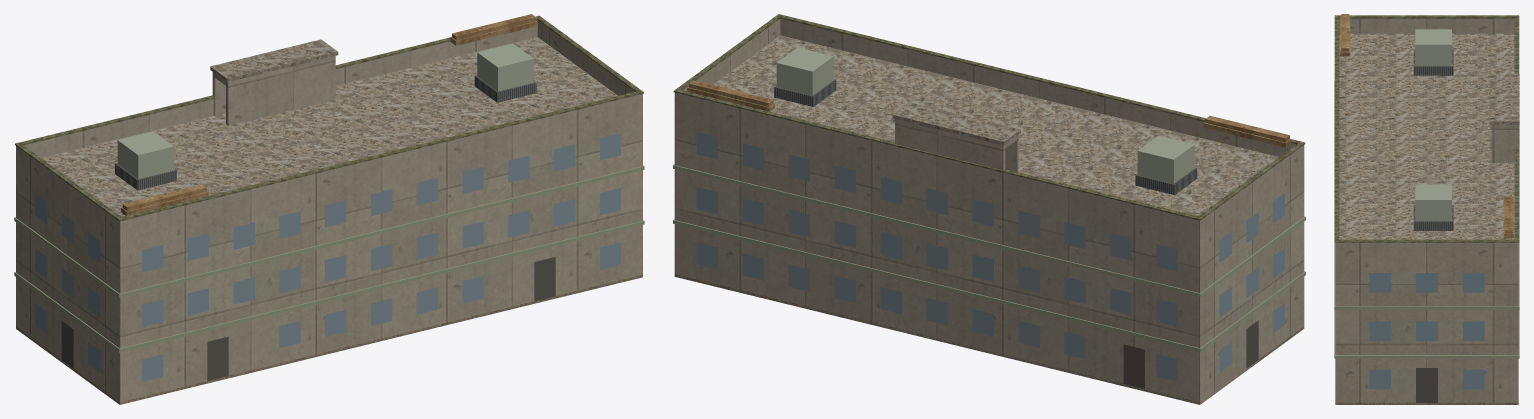
Rendered from mb-barracks-3s.garrison-v1.lod1.glb.
3 views of the same model, side by side, from view 1: azimuth 30°, elevation 25°; view 2: azimuth 150°, elevation 25°; view 3: azimuth 270°, elevation 25° (orthographic). The views are drawn at different scales.
Parts seen in each view (by area): view 1: mb-barracks-3s; view 2: mb-barracks-3s; view 3: mb-barracks-3s.
Part boxes in pixels (x1,y1,x2,y2): mb-barracks-3s: (14,14,644,404); mb-barracks-3s: (673,14,1305,404); mb-barracks-3s: (1334,14,1519,404).
Size of the model in its own units: 32.12 by 12.55 by 11.12.
Materials: 5 (4 with a texture image).
